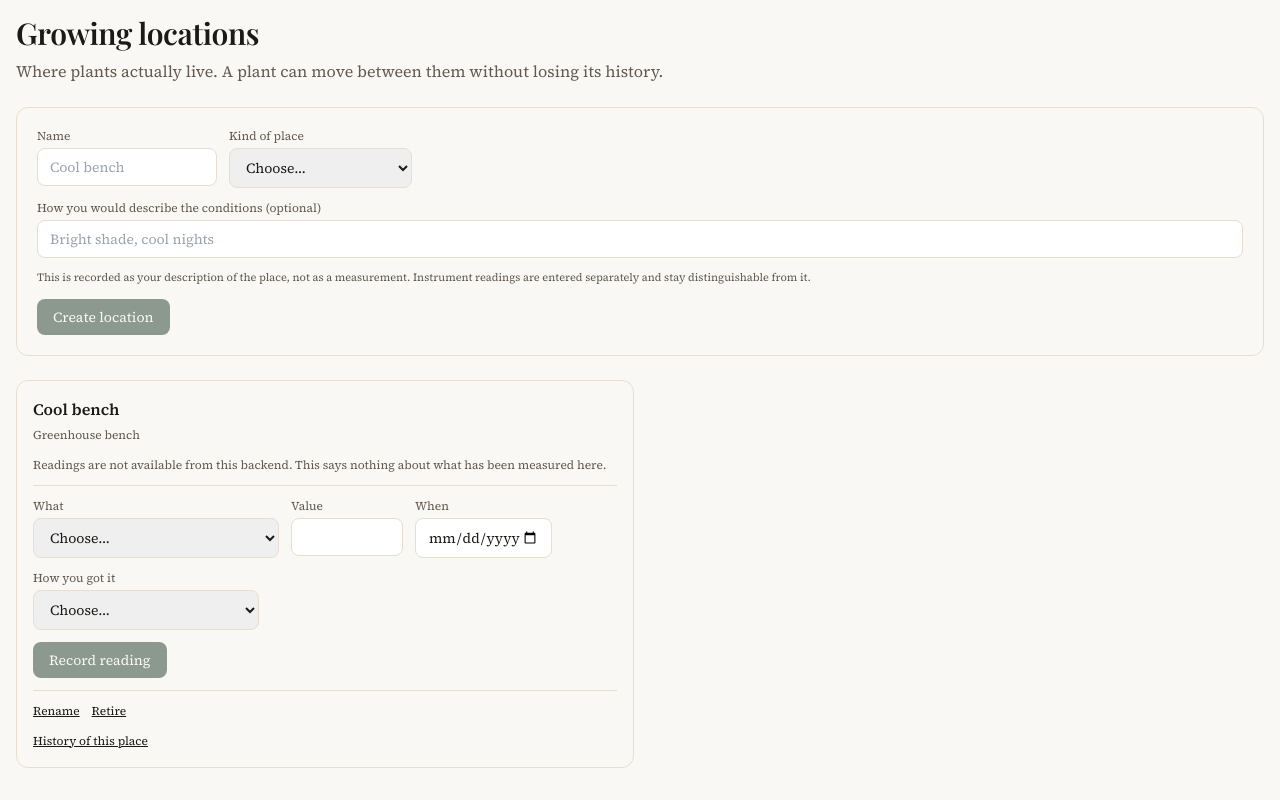
Scenario: MyConservatory location administration › reports that a bench still has plants on it rather than failing silently
The width and height of the screenshot is (1280, 800).
(page scrolled)
Click the button "Retire".
click(109, 710)  # box [92,702,126,718]
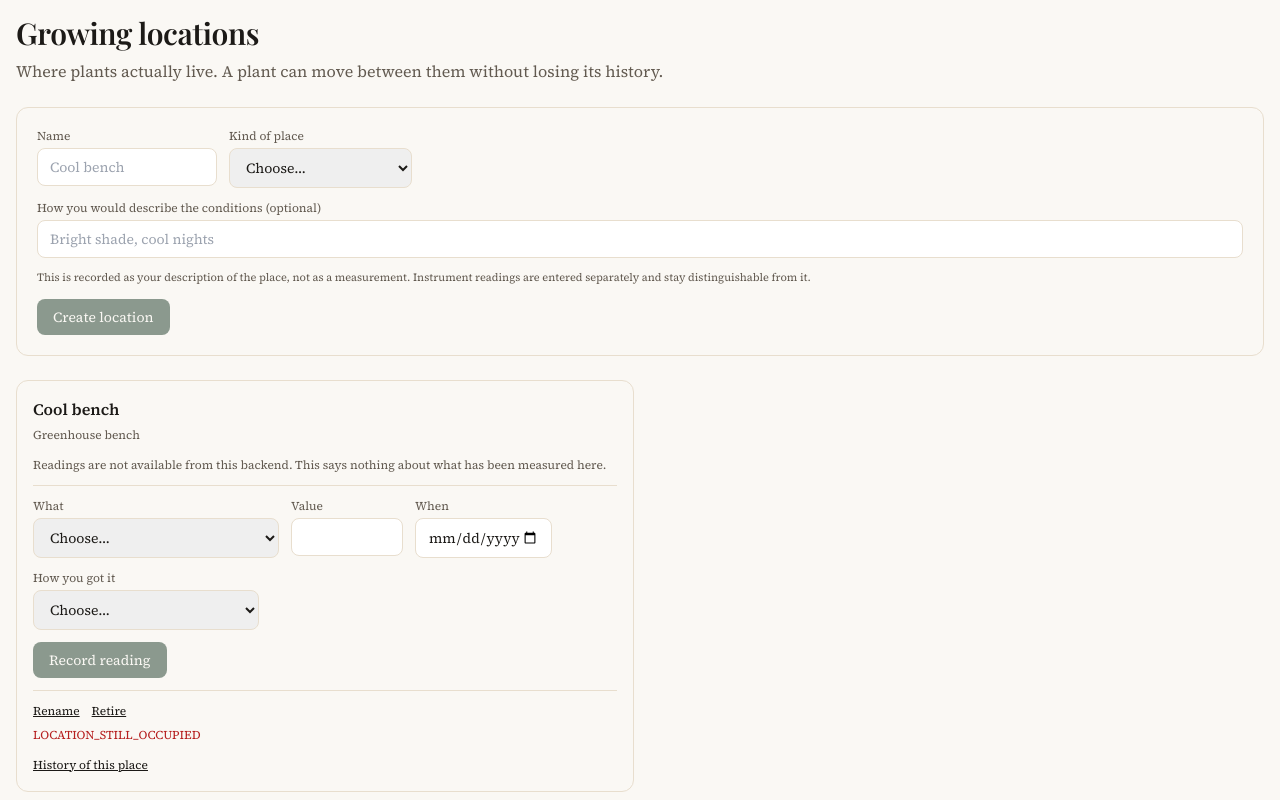
Check: the message "LOCATION_STILL_OCCUPIED" is shown, box [33,726,200,742]
